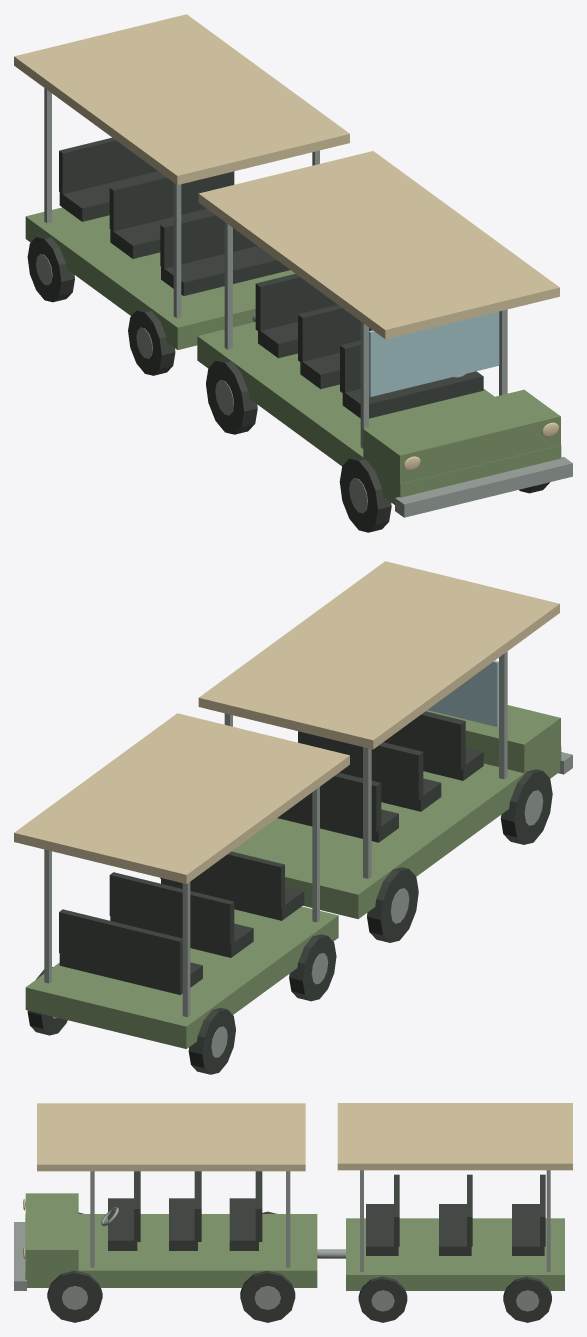
The model's file is zoo-and-safari-park-builder-park-tram-with-trailer-e64d0f30__21509.glb.
3 views of the same model, one above another, from view 1: azimuth 30°, elevation 25°; view 2: azimuth 150°, elevation 25°; view 3: azimuth 270°, elevation 25° (orthographic). The views are drawn at different scales.
Parts seen in each view (by area): view 1: park-tram-with-trailer; view 2: park-tram-with-trailer; view 3: park-tram-with-trailer.
Boxes of the visible parts, bbox=[...] form: park-tram-with-trailer: bbox=[14, 14, 572, 532]; park-tram-with-trailer: bbox=[14, 561, 572, 1074]; park-tram-with-trailer: bbox=[14, 1103, 572, 1322].
Bounding box in the file's own units: 1.8 × 2.16 × 6.89.
